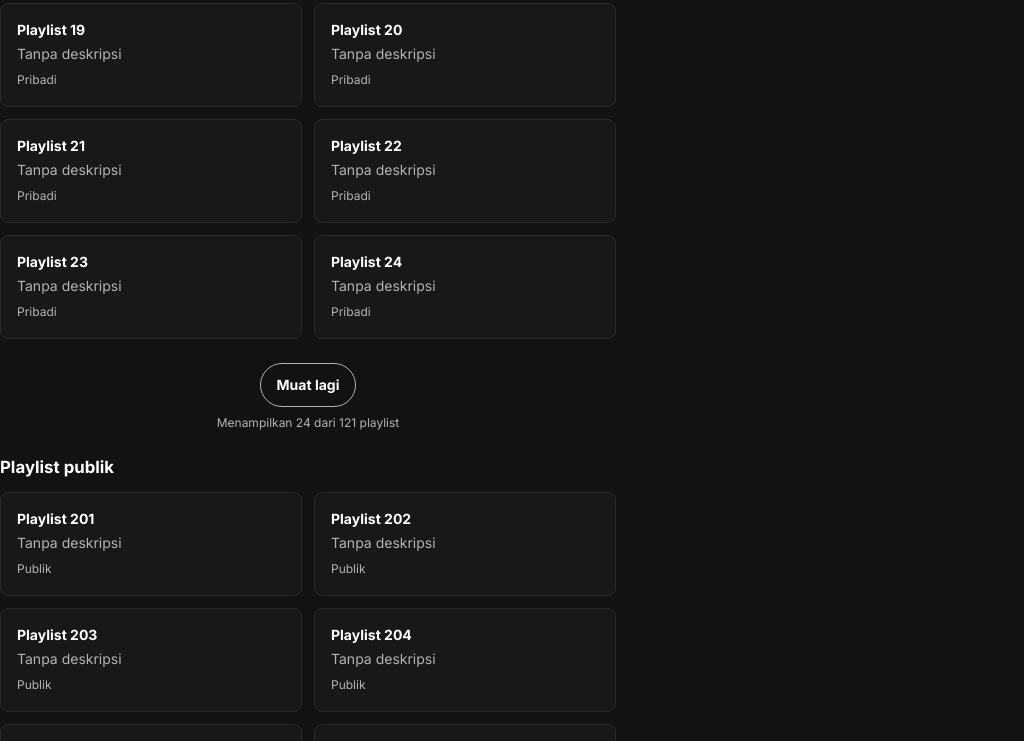
Test: PlaylistsPage pagination › refreshes loaded pages after deletion without skipping the shifted item
(page scrolled)
Click the button "Muat lagi": (308, 385) x1=260 y1=363 x2=356 y2=407
(page scrolled)
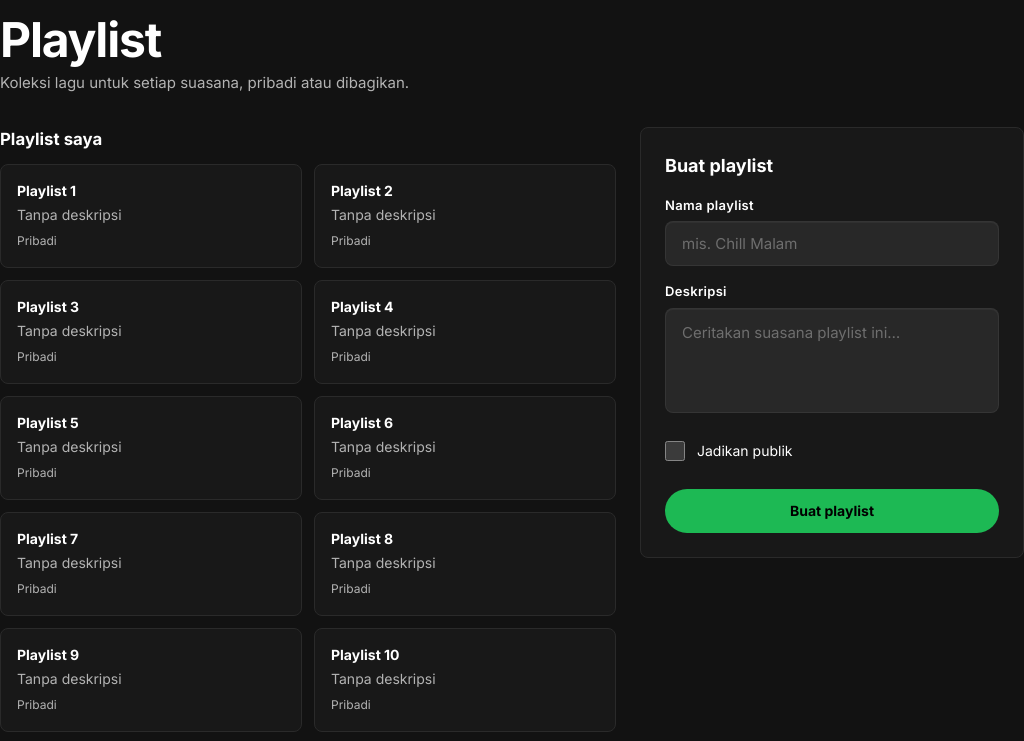
Click the text "Playlist 1": (47, 190) x1=17 y1=182 x2=76 y2=199
(page scrolled)
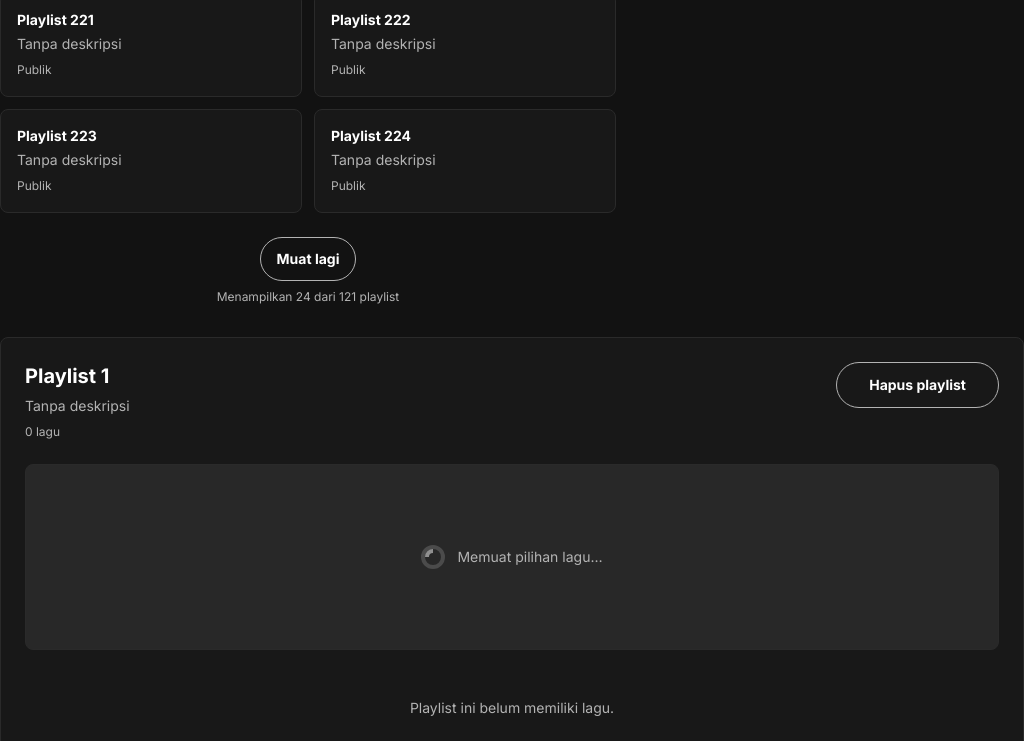
Click the button "Hapus playlist": (918, 385) x1=836 y1=362 x2=999 y2=408
(page scrolled)
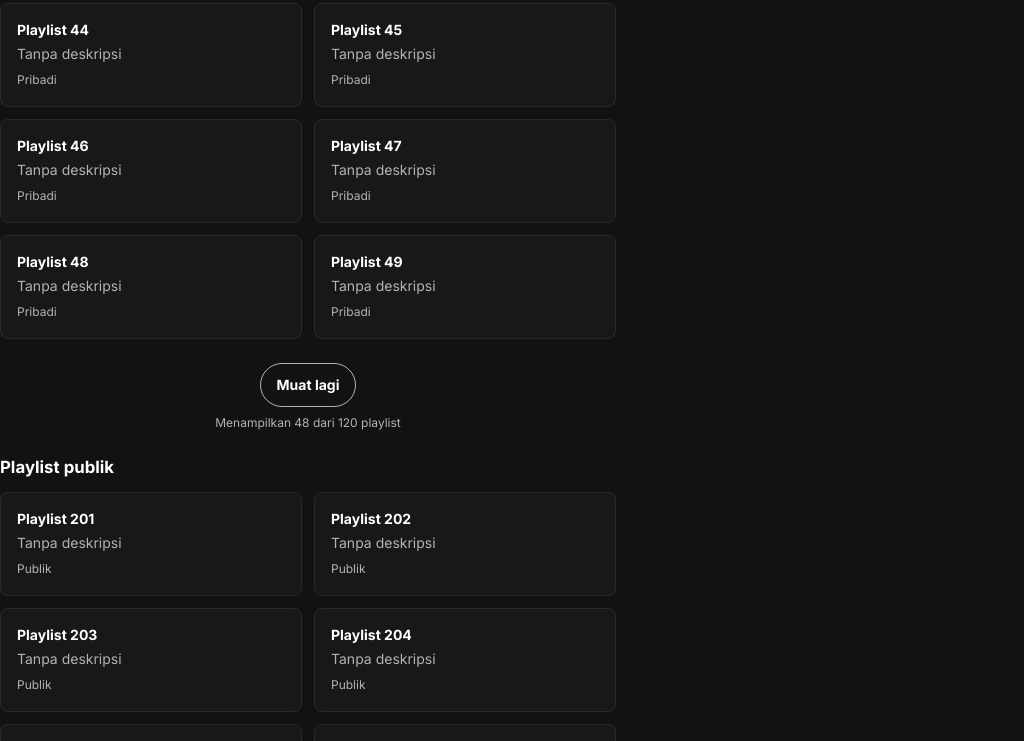
Expected: the text "Playlist 1" is not shown
Expected: the text "Playlist 49" is shown, x1=331 y1=253 x2=403 y2=270
Click the button "Muat lagi": (308, 385) x1=260 y1=363 x2=356 y2=407
(page scrolled)
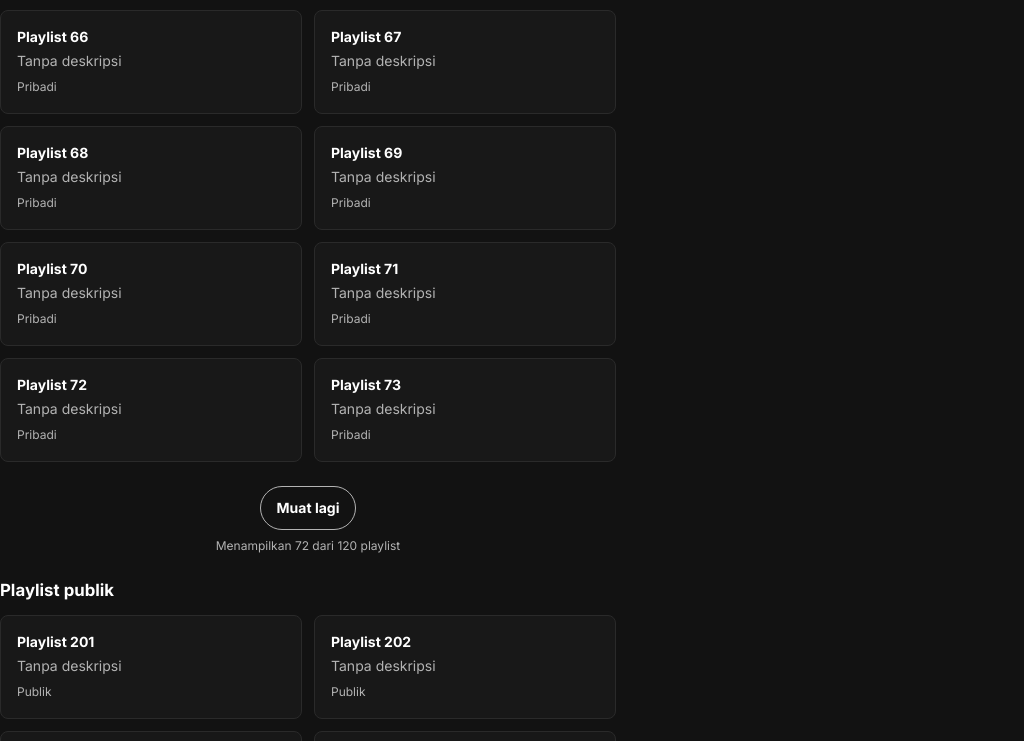
Expected: the text "Playlist 73" is shown, x1=331 y1=376 x2=401 y2=393
